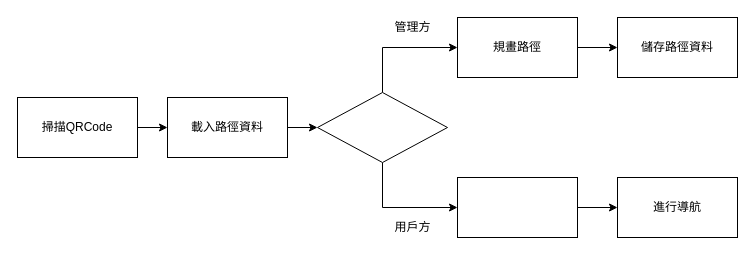
Image size: 755x255. Some labels were removed from this diagram. The shapes that lost their labels are listed below. From the top down, each one's centre as x and y in pixels, then its label:
At (382,127): "根據使用情境選擇".
At (517,207): "選擇目的地".
